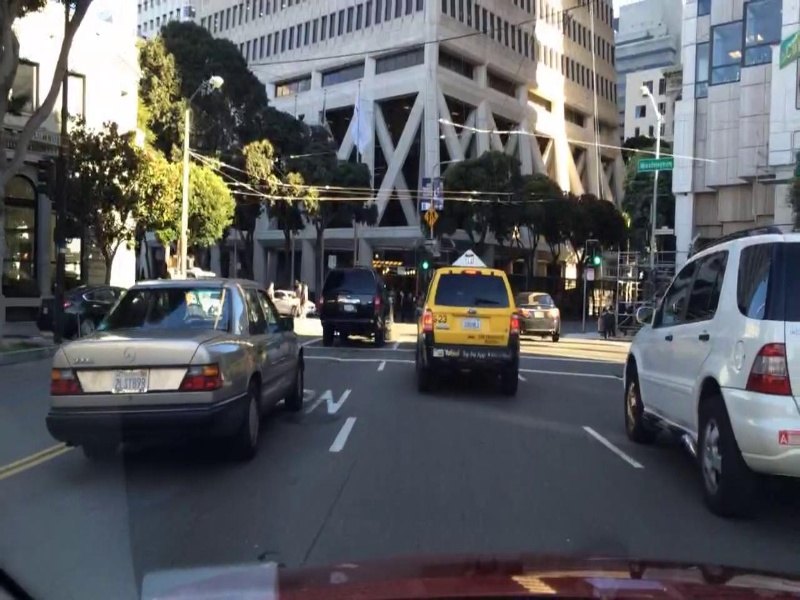car: (619, 224, 797, 525), (46, 273, 307, 468), (417, 248, 532, 408), (317, 263, 397, 342), (37, 274, 117, 332), (514, 280, 569, 342)
person: (296, 278, 310, 325)
